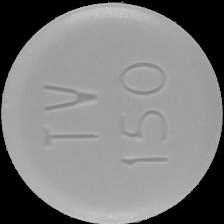68788-0285: (0, 0, 224, 224)
